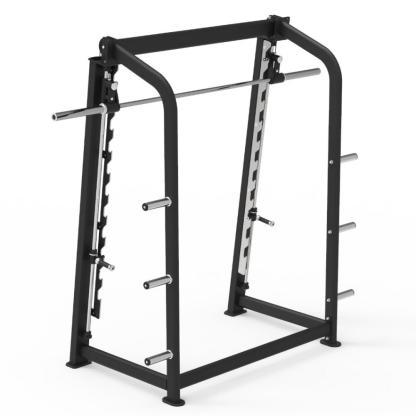smith machine: (52, 12, 355, 406)
